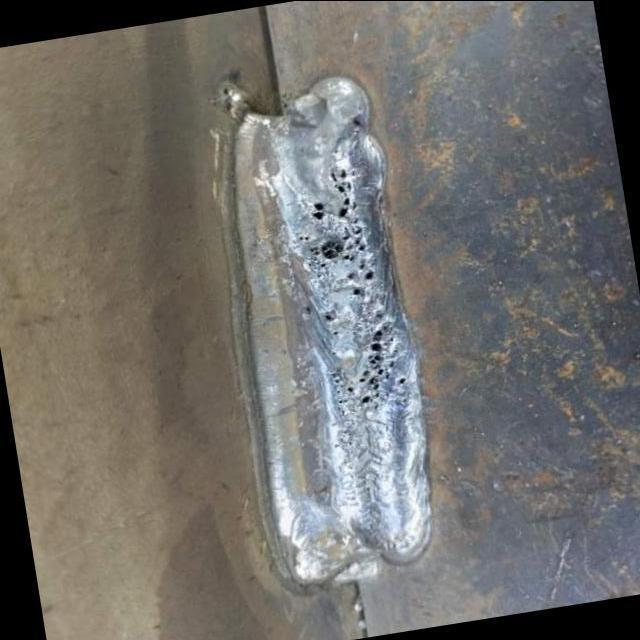defect: (299, 159, 379, 300), (340, 317, 410, 410), (320, 307, 342, 329)
